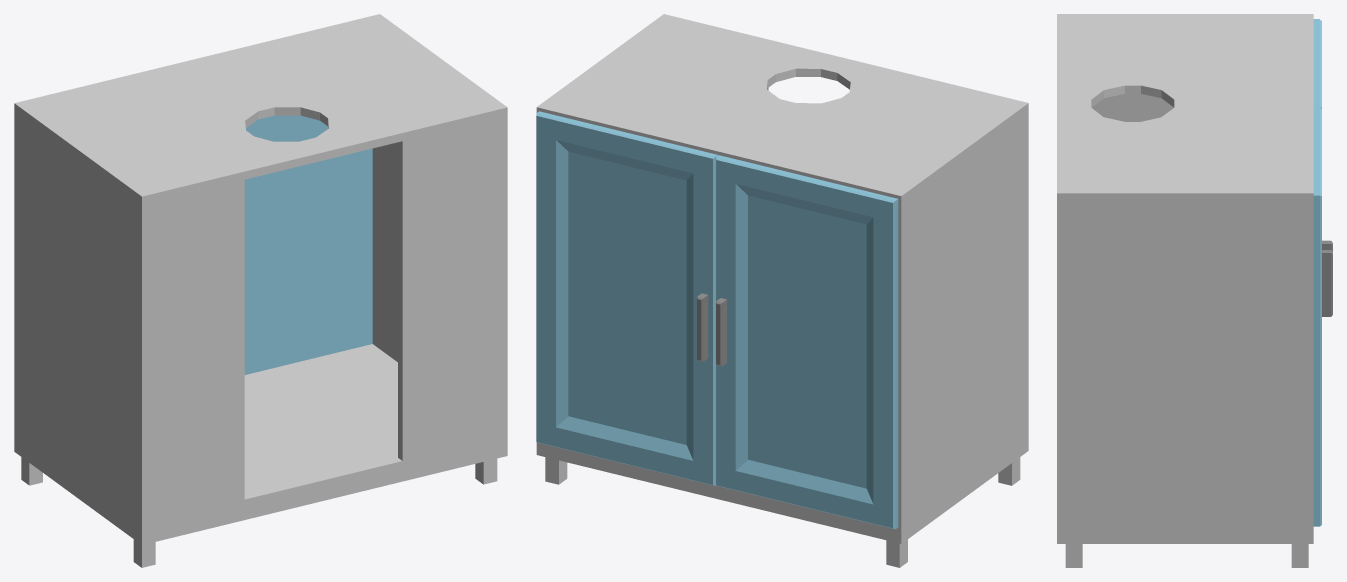
File: BATHROOM_underWashBasin_02.FBX
The picture shows the model from 3 angles, left to right: view 1: azimuth 30°, elevation 25°; view 2: azimuth 150°, elevation 25°; view 3: azimuth 270°, elevation 25°; orthographic projection.
Parts seen in each view (by area): view 1: BATHROOM_underWashBasin_02_base, BATHROOM_underWashBasin_02_leftDoor, BATHROOM_underWashBasin_02_inside; view 2: BATHROOM_underWashBasin_02_base, BATHROOM_underWashBasin_02_rightDoor, BATHROOM_underWashBasin_02_leftDoor; view 3: BATHROOM_underWashBasin_02_base, BATHROOM_underWashBasin_02_leftDoor, BATHROOM_underWashBasin_02_inside, BATHROOM_underWashBasin_02_rightDoor.
Boxes of the visible parts, x1,y1,x2,y2 form: BATHROOM_underWashBasin_02_base: (14,14,507,567); BATHROOM_underWashBasin_02_leftDoor: (244,115,372,374); BATHROOM_underWashBasin_02_inside: (244,142,397,494); BATHROOM_underWashBasin_02_base: (536,14,1028,567); BATHROOM_underWashBasin_02_rightDoor: (716,155,898,529); BATHROOM_underWashBasin_02_leftDoor: (536,111,718,485); BATHROOM_underWashBasin_02_base: (1057,14,1313,567); BATHROOM_underWashBasin_02_leftDoor: (1313,107,1332,526); BATHROOM_underWashBasin_02_inside: (1092,93,1173,121); BATHROOM_underWashBasin_02_rightDoor: (1313,19,1332,251).
Size of the model in its own units: 101 by 98.83 by 65.42.
